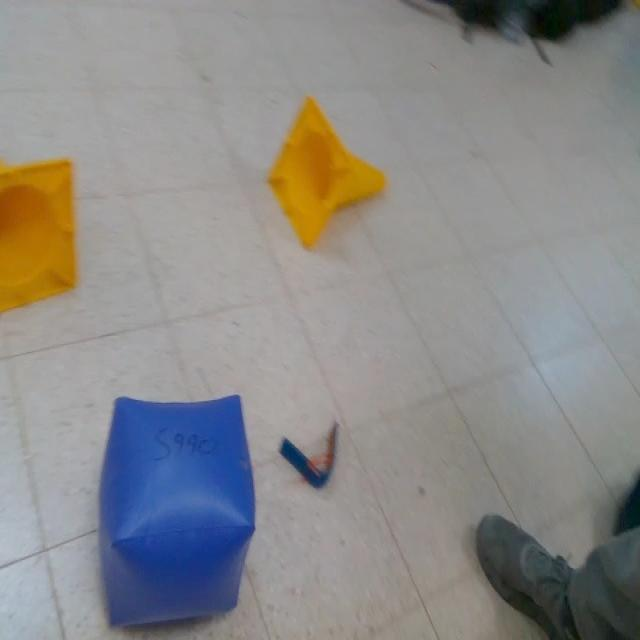cone: (268, 95, 392, 254), (0, 147, 76, 316)
cube: (98, 394, 254, 628)
